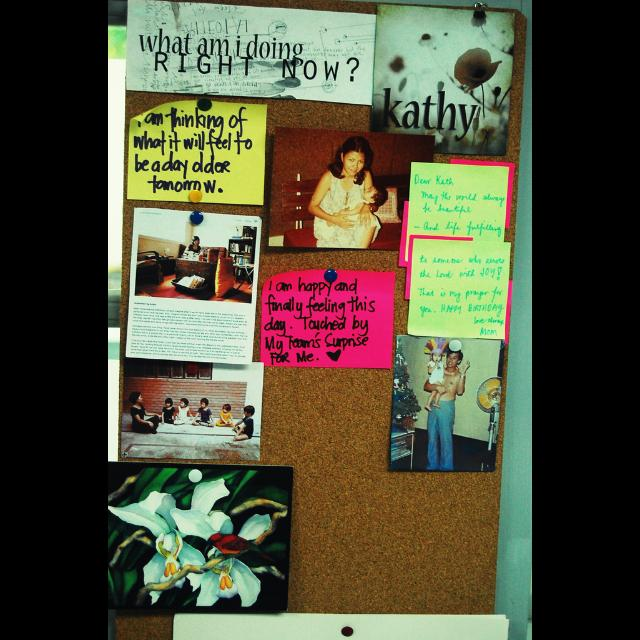Flower: (108, 490, 204, 606), (172, 478, 272, 554), (192, 570, 252, 608), (454, 48, 502, 88), (472, 10, 488, 28), (389, 56, 403, 74)
